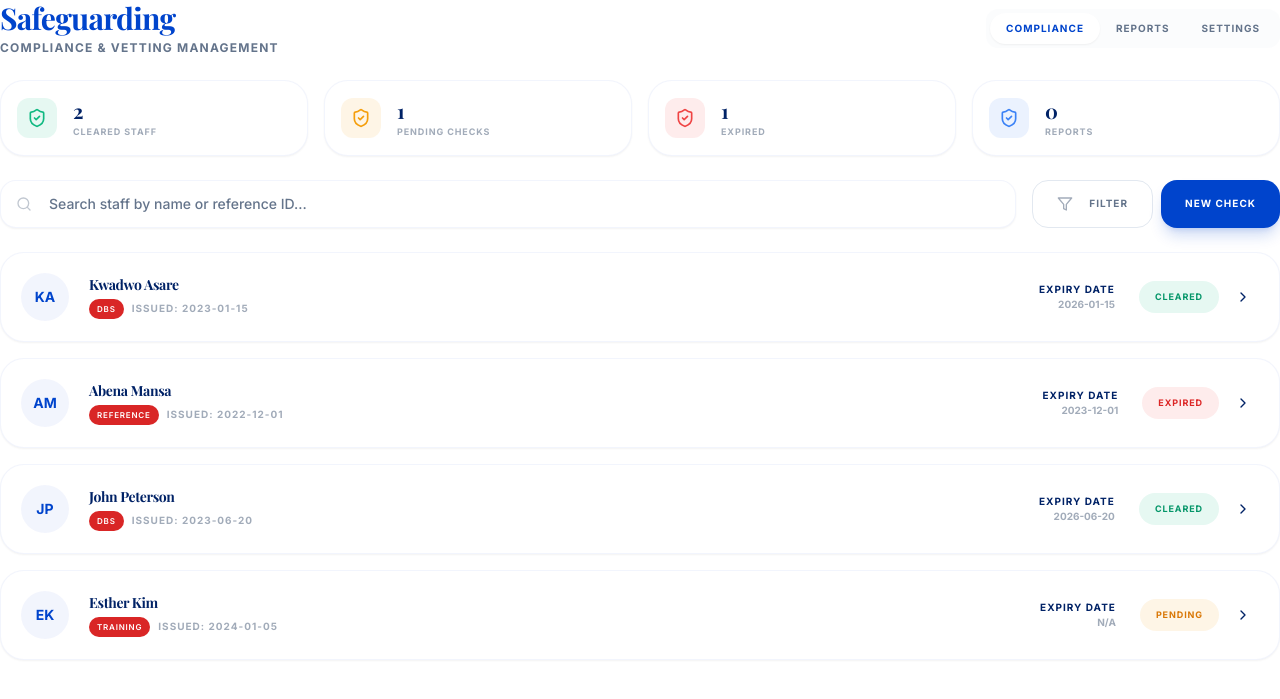
Test: Event Modules Permission Guarding › allows authorized users to create safeguarding checks
Click the button "New Check". click: point(1220, 204)
box: [1161,180,1279,228]
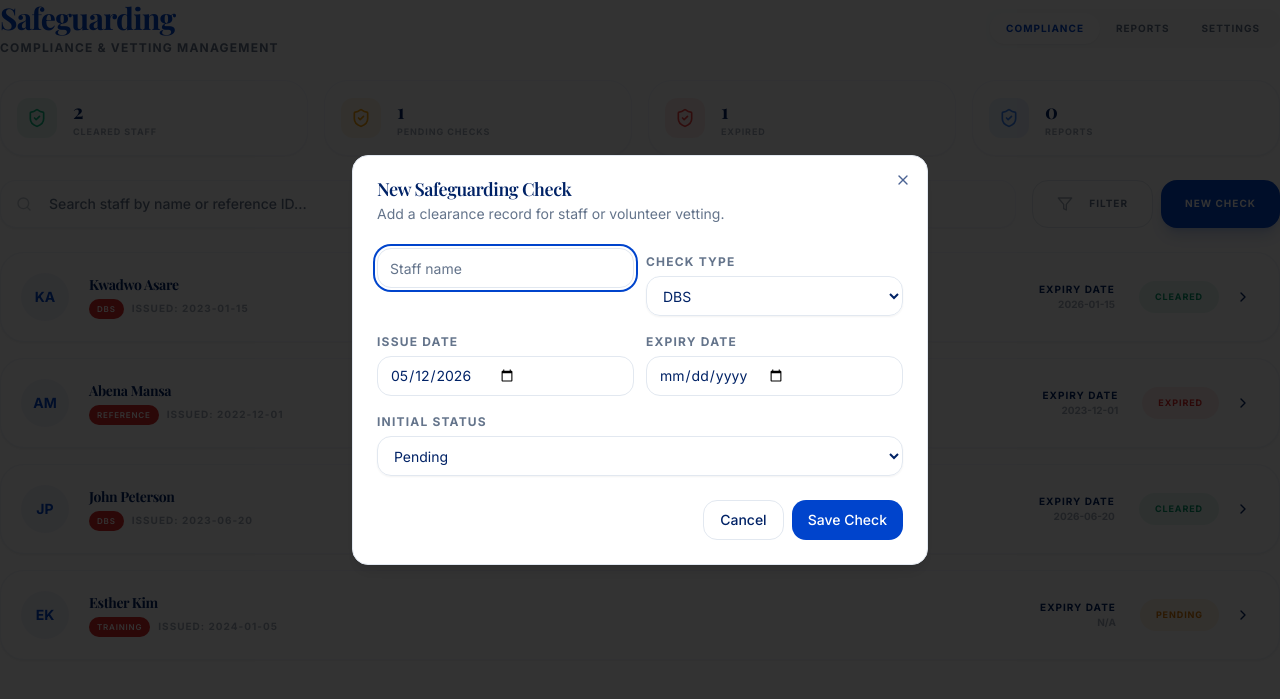
Type "Grace Ofori" into the field labelled "Staff name". click: point(506, 268)
box: [377,248,634,288]
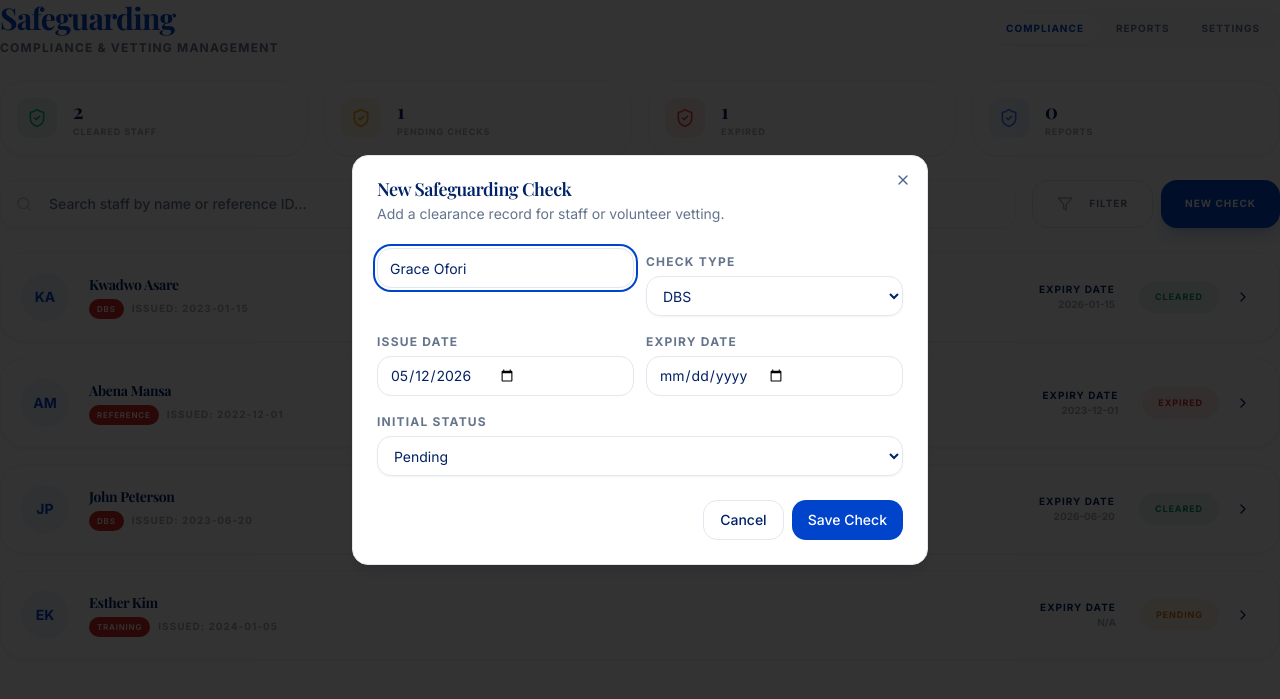
Select "Training" in the dropdown named "check type". click: point(774, 296)
box: [646,276,903,316]
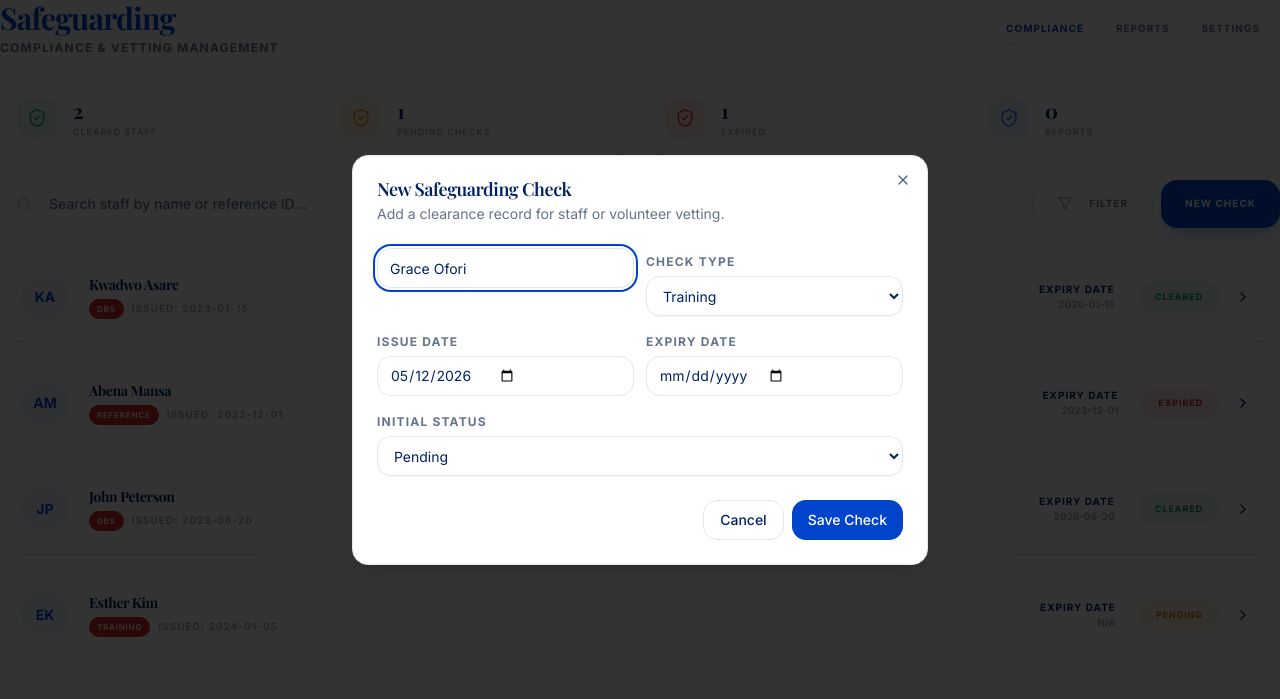
Select "Cleared" in the dropdown named "initial status". click: point(640, 456)
box: [377,436,903,476]
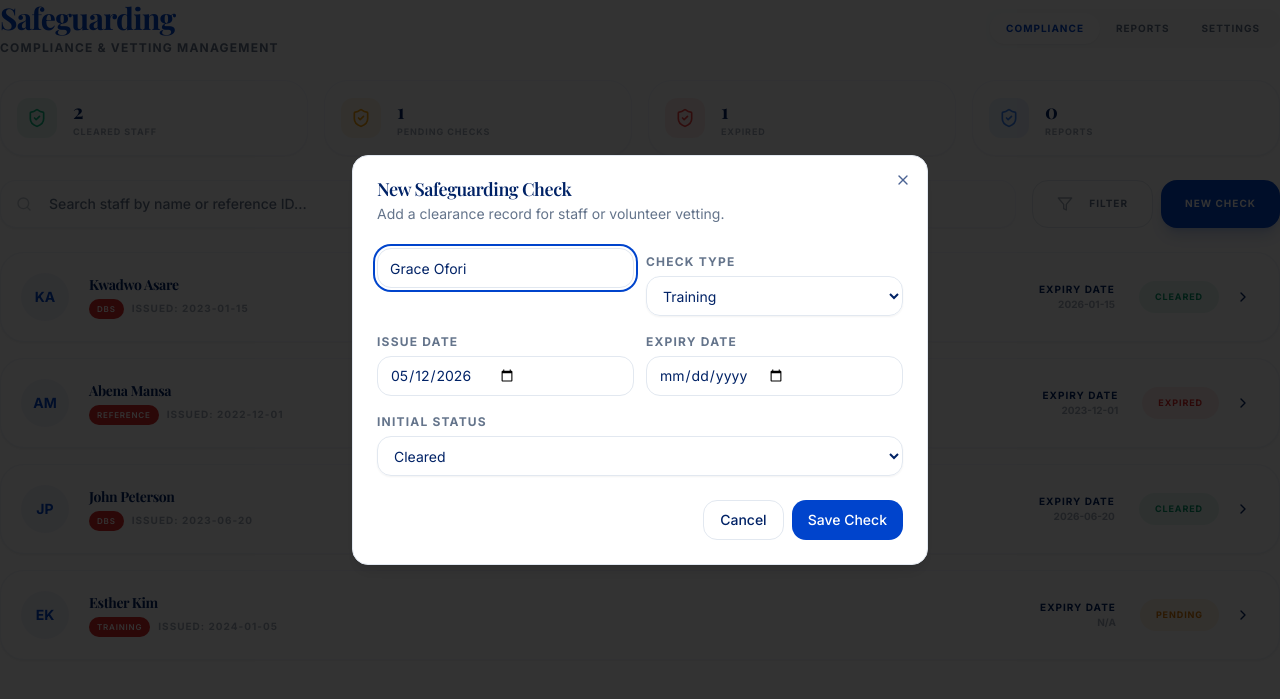
Click the button "Save Check". click: point(847, 520)
box: [792,500,903,540]
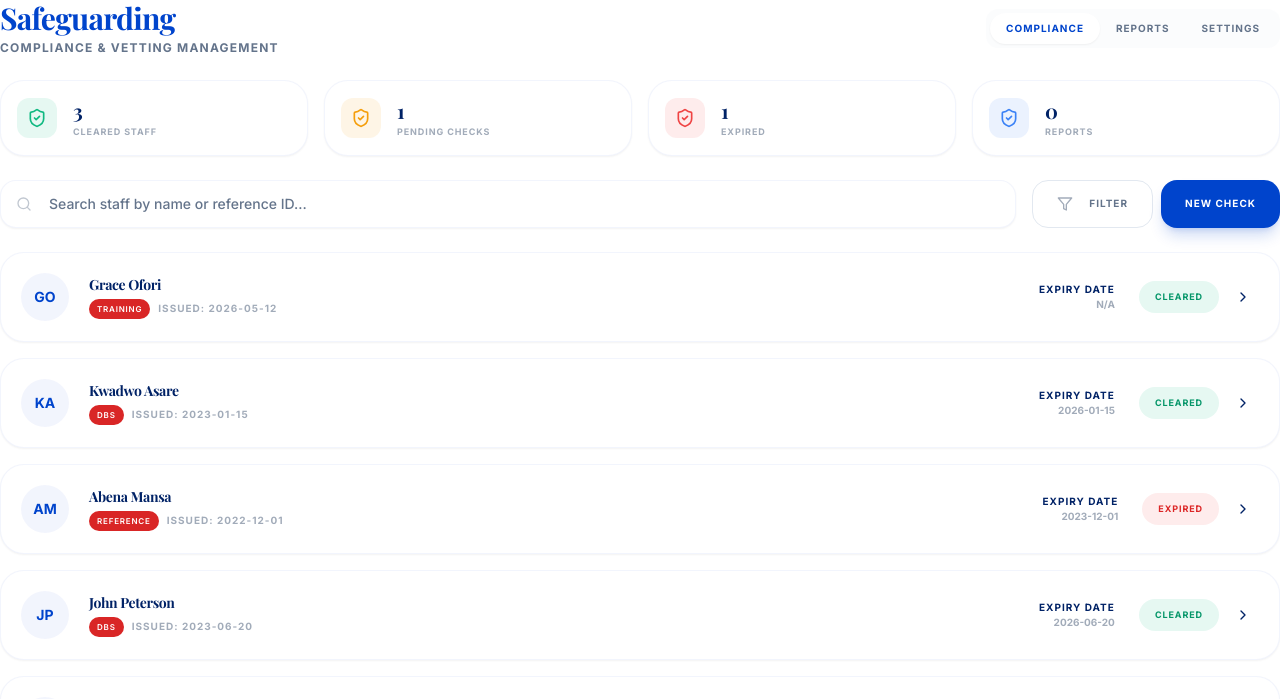
Check: the heading "Grace Ofori" is shown, box [89,274,161,294]
